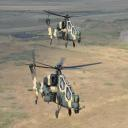helicopter: (25, 38, 90, 112), (40, 9, 96, 54)
